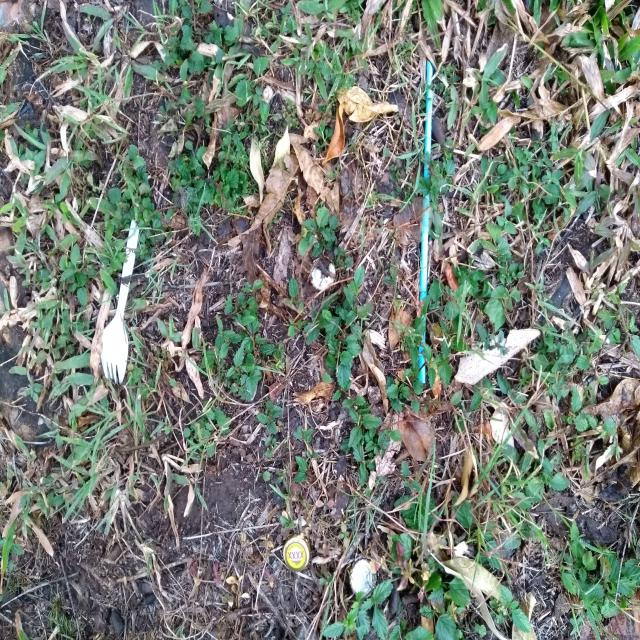litter: (101, 220, 139, 383), (418, 61, 433, 383), (350, 556, 376, 598), (283, 534, 311, 572), (311, 257, 336, 290)
